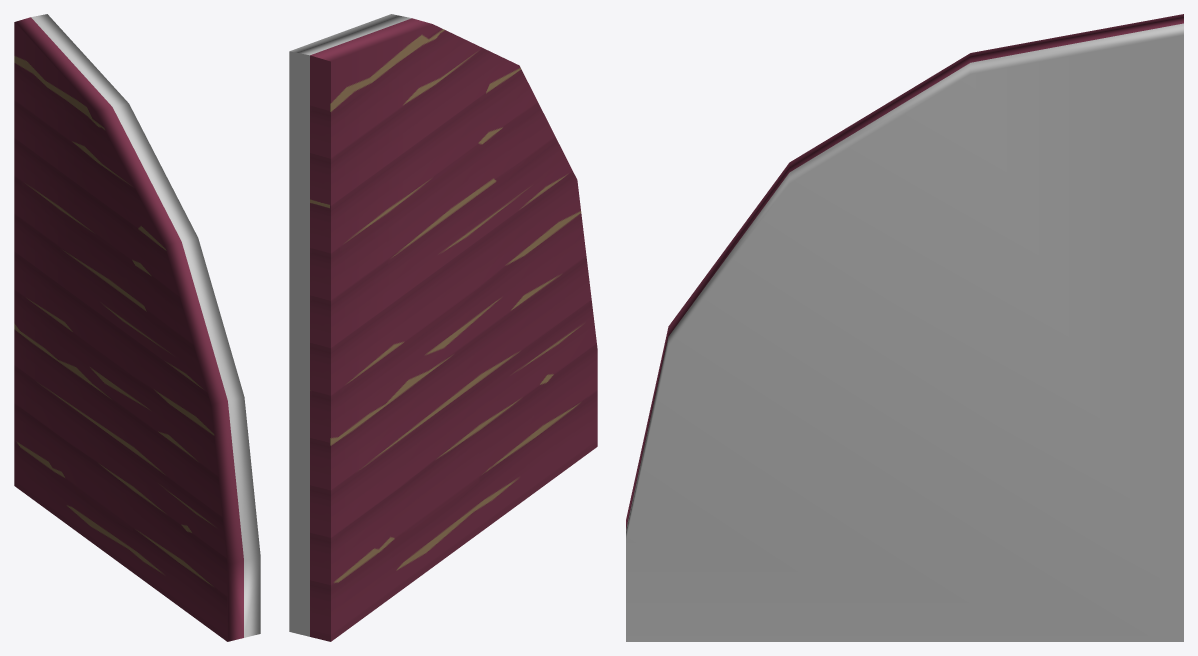
The model's file is SM_Bld_Roof_Convex_Wall_01.fbx.
The picture shows the model from 3 angles, left to right: view 1: azimuth 30°, elevation 25°; view 2: azimuth 150°, elevation 25°; view 3: azimuth 270°, elevation 25°; orthographic projection. The views are drawn at different scales.
Parts seen in each view (by area): view 1: SM_Bld_Roof_Convex_Wall_01; view 2: SM_Bld_Roof_Convex_Wall_01; view 3: SM_Bld_Roof_Convex_Wall_01.
Boxes of the visible parts, x1,y1,x2,y2 form: SM_Bld_Roof_Convex_Wall_01: (14, 14, 260, 641); SM_Bld_Roof_Convex_Wall_01: (289, 14, 597, 641); SM_Bld_Roof_Convex_Wall_01: (626, 14, 1183, 641).
Bounding box in the file's own units: 22.5 × 301 × 250.
